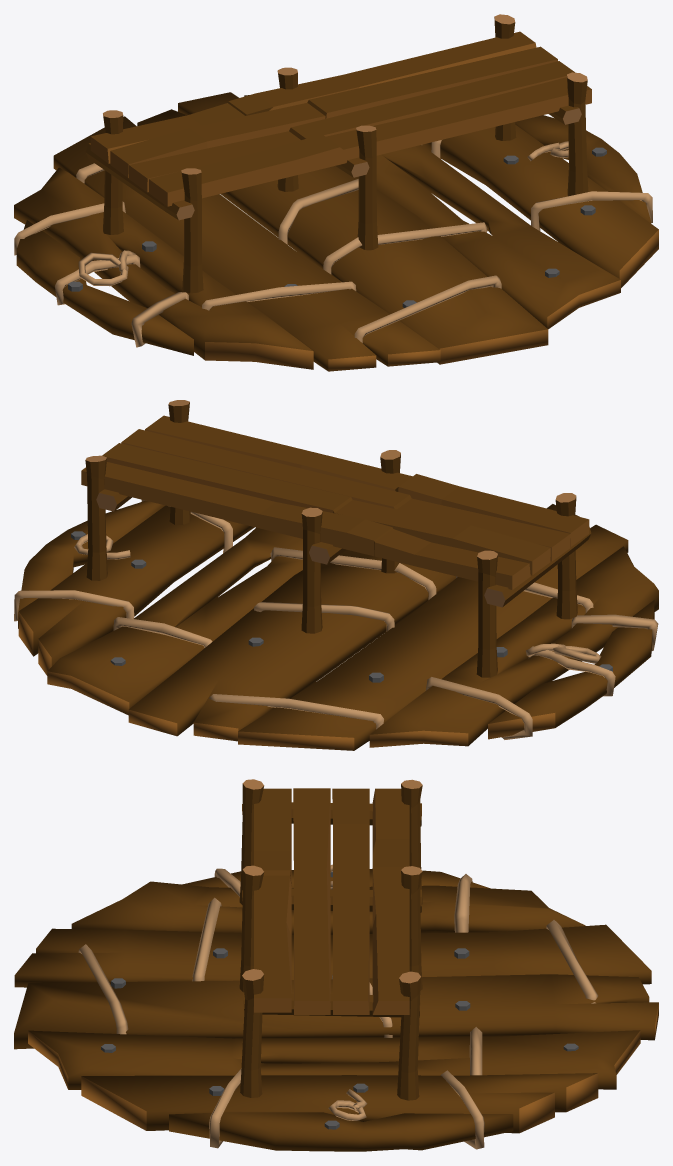
File: CompiStand.glb
3 renders of one model, top to bottom at view 1: azimuth 30°, elevation 25°; view 2: azimuth 150°, elevation 25°; view 3: azimuth 270°, elevation 25°, orthographic.
Visible parts, largest first — view 1: AlleWay_01; view 2: AlleWay_01; view 3: AlleWay_01.
Boxes of the visible parts, <box> form: AlleWay_01: <box>14,14,658,371</box>; AlleWay_01: <box>14,400,658,750</box>; AlleWay_01: <box>14,779,658,1151</box>.
Size of the model in its own units: 4.17 by 1.12 by 4.13.
Materials: 2 (2 with a texture image).
